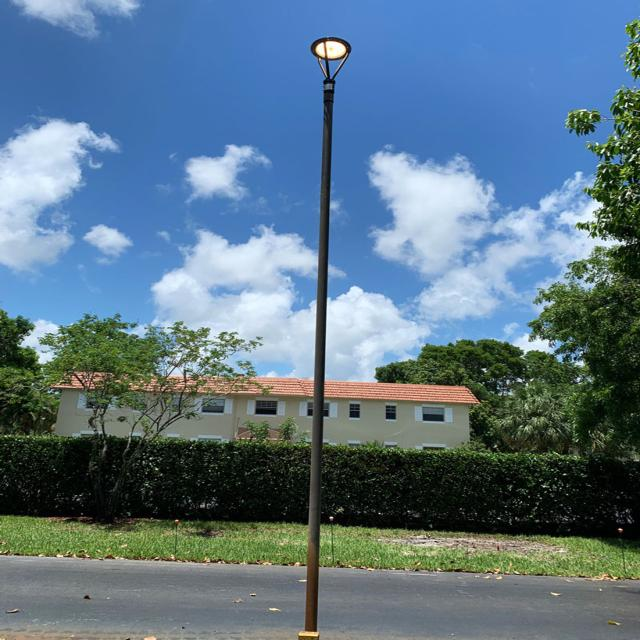Electric pole: (299, 36, 351, 640)
